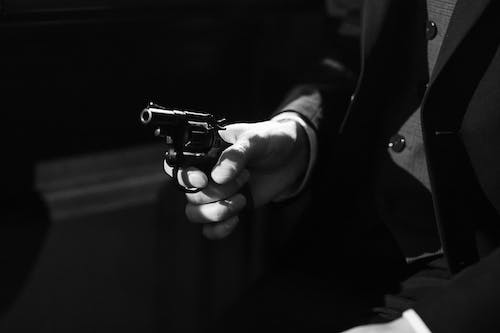gun: (138, 100, 237, 195)
